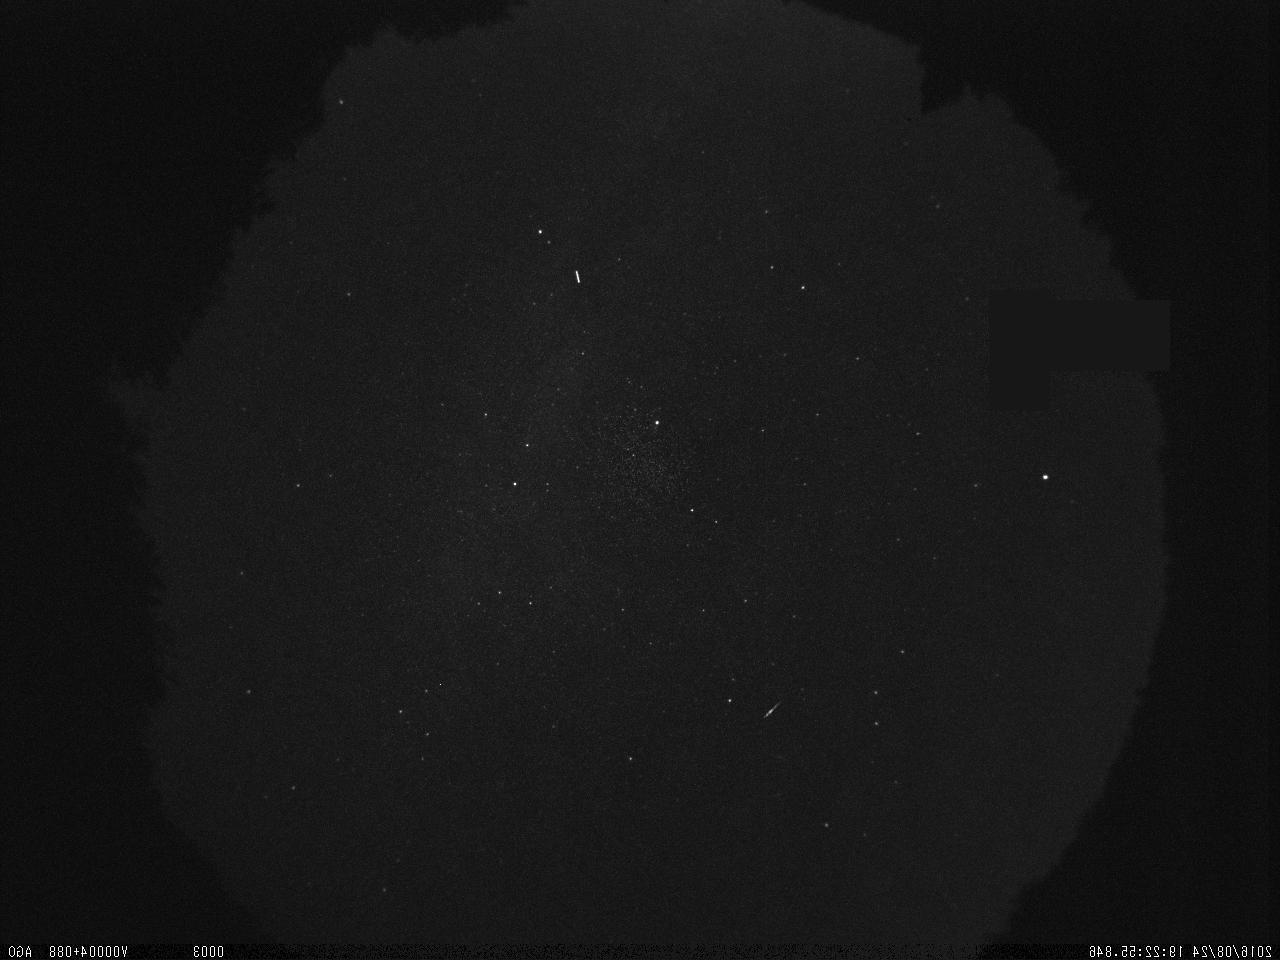meteor: (756, 699, 784, 723)
